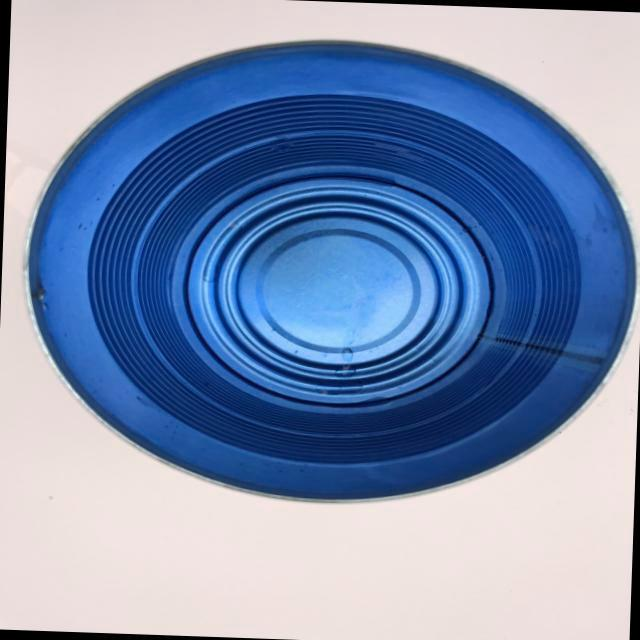metal: (9, 19, 640, 527)
